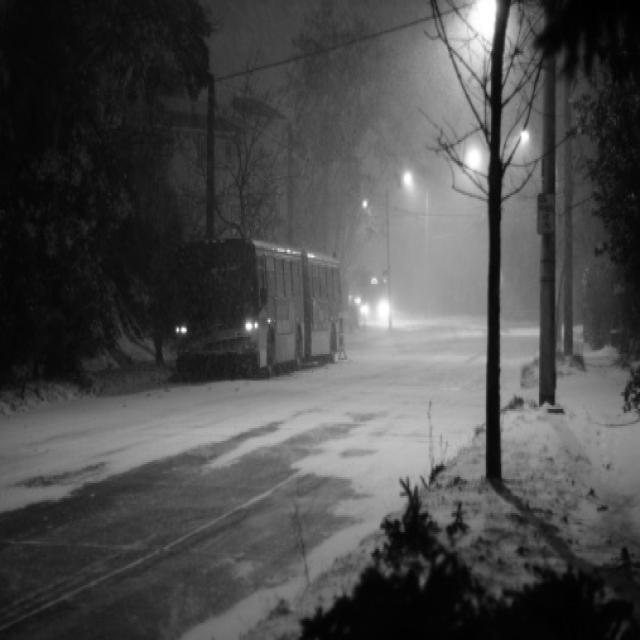Bus: (156, 184, 351, 406)
